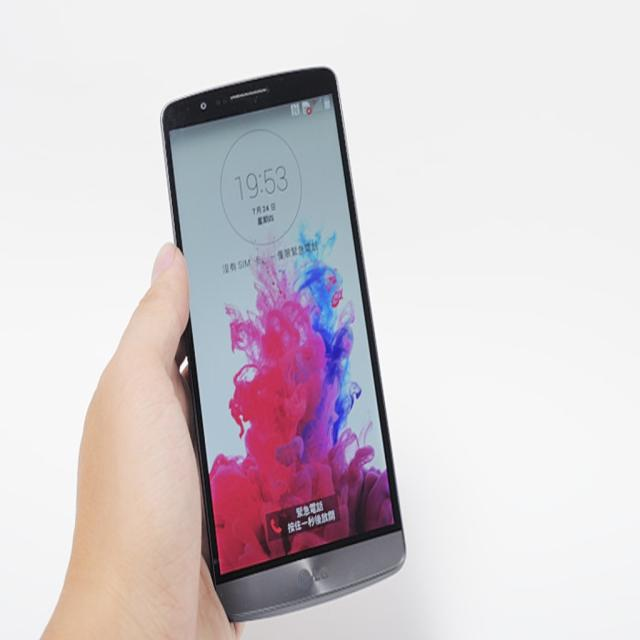Mobile phone: (157, 60, 405, 620)
